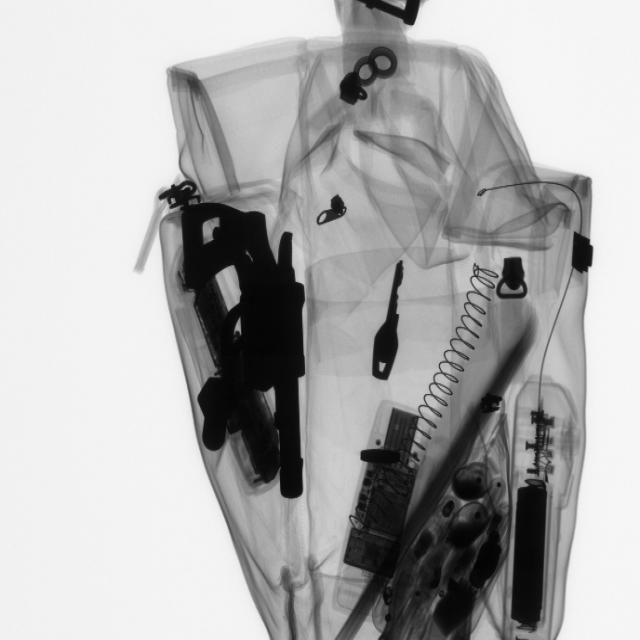GUN: (195, 171, 310, 517)
